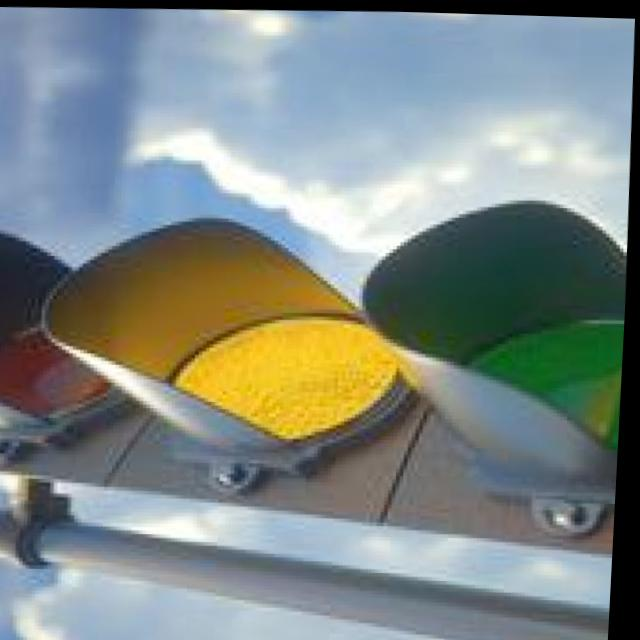green_light: (362, 219, 631, 513)
red_light: (0, 240, 99, 425)
yellow_light: (116, 256, 405, 463)
